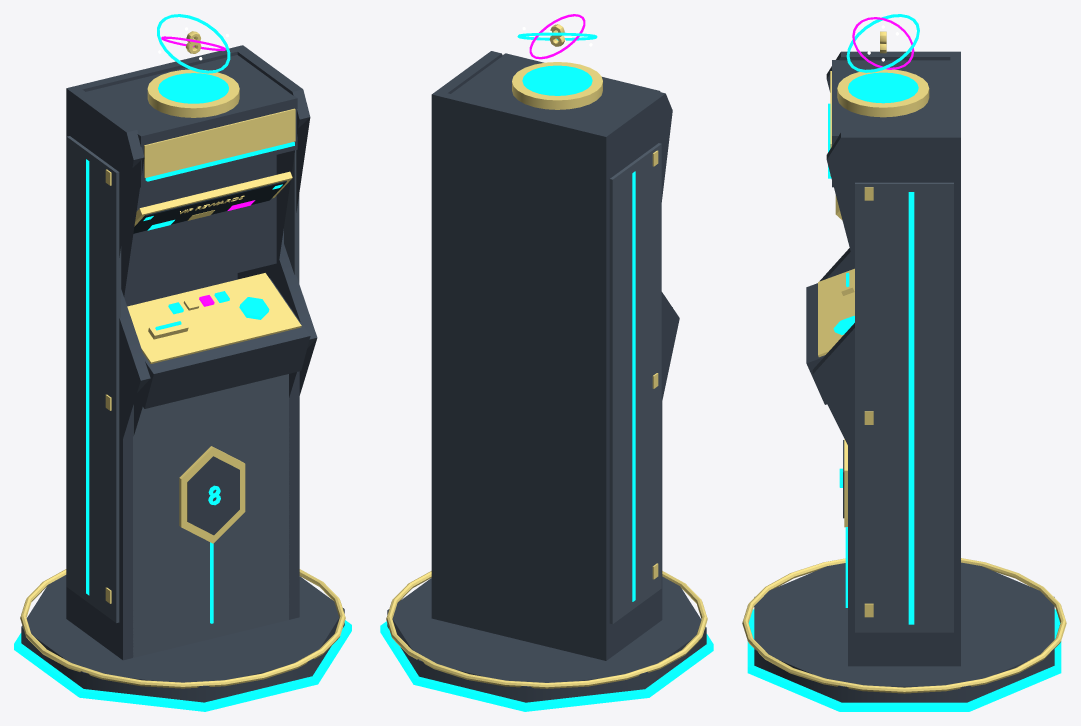
Rendered from vip_kiosk.glb.
3 views of the same model, side by side, from view 1: azimuth 30°, elevation 25°; view 2: azimuth 150°, elevation 25°; view 3: azimuth 270°, elevation 25° (orthographic).
Parts seen in each view (by area): view 1: Chassis_Pedestal_Front, Cube, Cylinder.001, SideWing_-1, Chassis_Screen_Bed, Cube.011, Chassis_Canopy_Hood, SideWing_1, Control_Deck_Bed, Canopy_Marquee_Face, Cylinder, Torus (+11 smaller); view 2: Chassis_Rear_Spine, Cube, Cylinder.001, SideWing_-1, SideWing_1, Chassis_Canopy_Hood, Cylinder, Torus, Holo_Emitter_Ring, Cylinder.004, Cube.001; view 3: Cube.005, Cylinder.001, SideWing_1, Chassis_Canopy_Hood, Torus, Cylinder, Cube.006, Cube.011, Holo_Emitter_Ring, Cylinder.004, SideWing_-1, Control_Deck_Bed (+2 smaller).
Boxes of the visible parts, x1,y1,x2,y2 form: Chassis_Pedestal_Front: [133, 374, 289, 657]; Cube: [66, 136, 120, 622]; Cylinder.001: [21, 575, 344, 702]; SideWing_-1: [66, 85, 150, 660]; Chassis_Screen_Bed: [121, 155, 276, 300]; Cube.011: [127, 273, 301, 363]; Chassis_Canopy_Hood: [86, 55, 297, 187]; SideWing_1: [232, 45, 317, 619]; Control_Deck_Bed: [136, 278, 310, 408]; Canopy_Marquee_Face: [144, 108, 295, 177]; Cylinder: [14, 620, 351, 711]; Torus: [20, 569, 345, 688]; Chassis_Rear_Spine: [437, 93, 600, 658]; Cube: [609, 143, 661, 624]; Cylinder.001: [387, 576, 706, 702]; SideWing_-1: [595, 91, 679, 660]; SideWing_1: [431, 51, 502, 620]; Chassis_Canopy_Hood: [451, 53, 660, 130]; Cylinder: [380, 621, 713, 711]; Torus: [386, 571, 707, 688]; Holo_Emitter_Ring: [512, 62, 602, 109]; Cylinder.004: [522, 65, 592, 95]; Cube.001: [632, 171, 635, 601]; Cube.005: [855, 182, 953, 632]; Cylinder.001: [754, 562, 1054, 702]; SideWing_1: [812, 132, 960, 666]; Chassis_Canopy_Hood: [832, 60, 950, 187]; Torus: [742, 558, 1066, 693]; Cylinder: [747, 609, 1061, 711]; Cube.006: [908, 192, 914, 624]; Cube.011: [818, 268, 854, 357]; Holo_Emitter_Ring: [837, 69, 929, 117]; Cylinder.004: [848, 72, 918, 103]; SideWing_-1: [819, 51, 960, 281]; Control_Deck_Bed: [806, 283, 826, 404].
Size of the model in its own units: 0.918 by 1.94 by 0.918.
